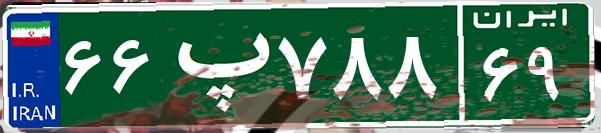6: (57, 26, 110, 107), (475, 38, 525, 113), (110, 28, 158, 105)
7: (273, 28, 330, 110)
8: (385, 28, 445, 110), (330, 28, 385, 110)
9: (525, 38, 570, 115)
پ: (158, 15, 273, 115)
